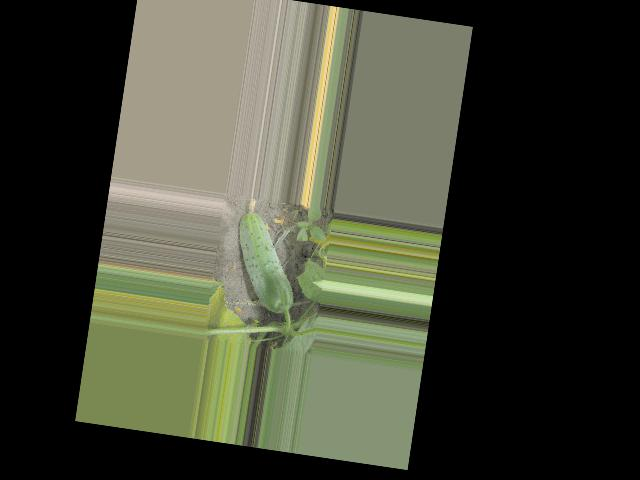cucumber: (226, 196, 306, 314)
